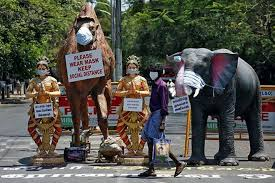mask: (123, 53, 145, 75), (149, 64, 163, 81)
